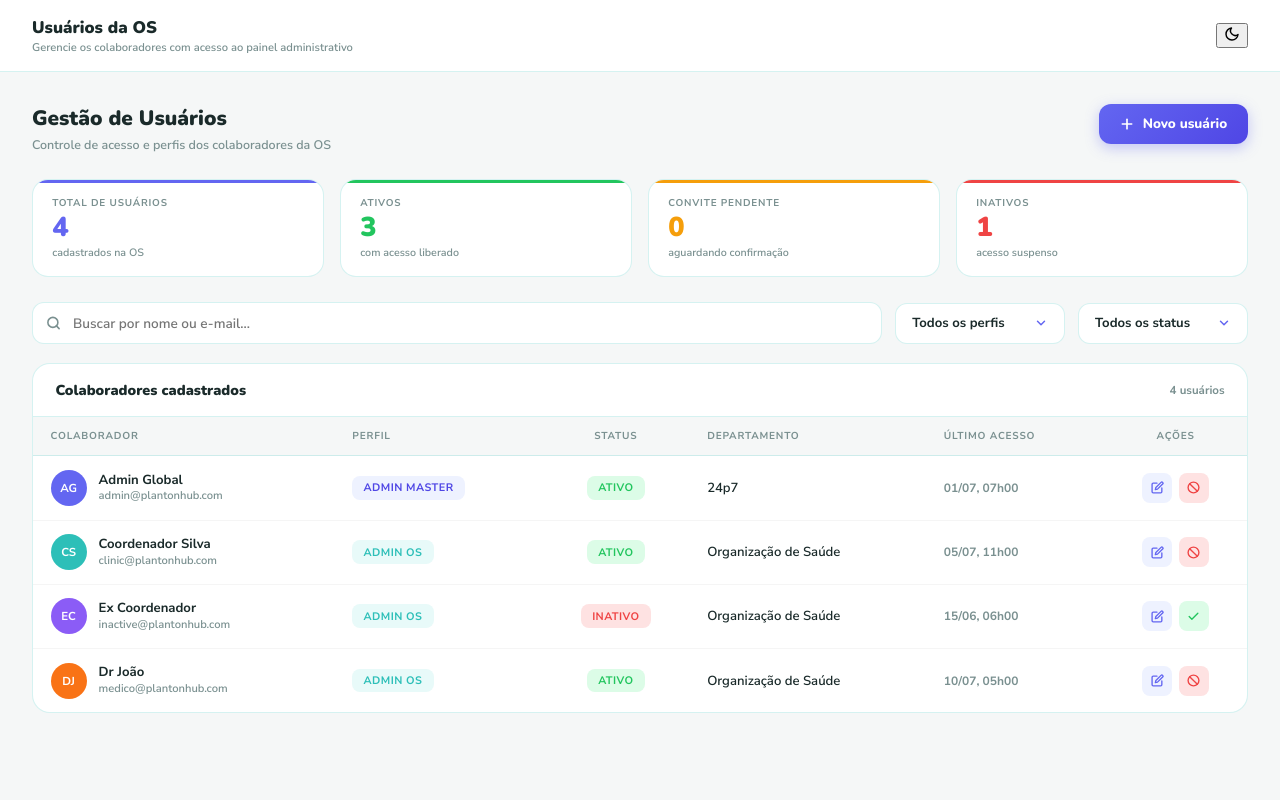
Scenario: <AdminUsuariosOS /> › cria usuário, atribui a role e insere na lista ao salvar
Expected: the text "Admin Global" is shown, [99,471,183,489]
Click the button "Novo usuário". click: (1173, 124)
box: [1099,104,1248,144]
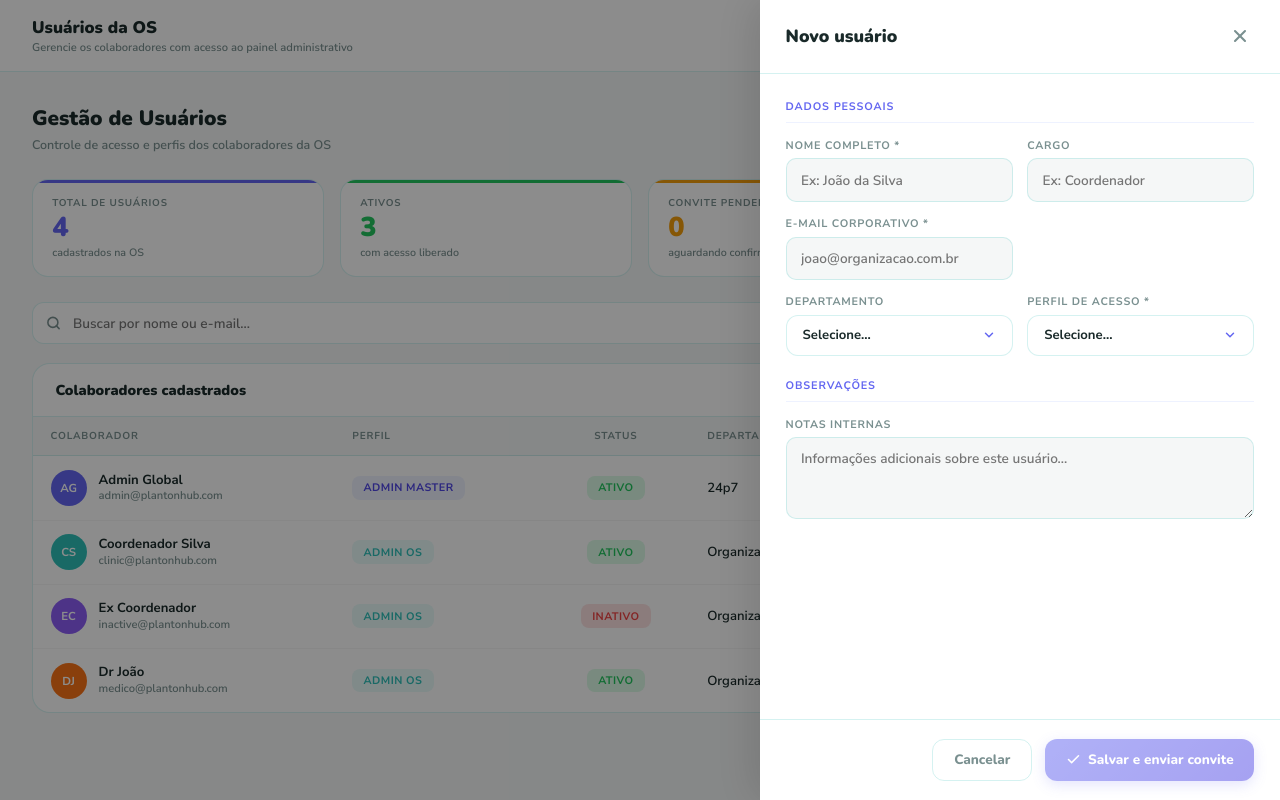
Type "Novo Colaborador" into the field with placeholder "Ex: João da Silva". click: (899, 180)
box: [786,158,1013,202]
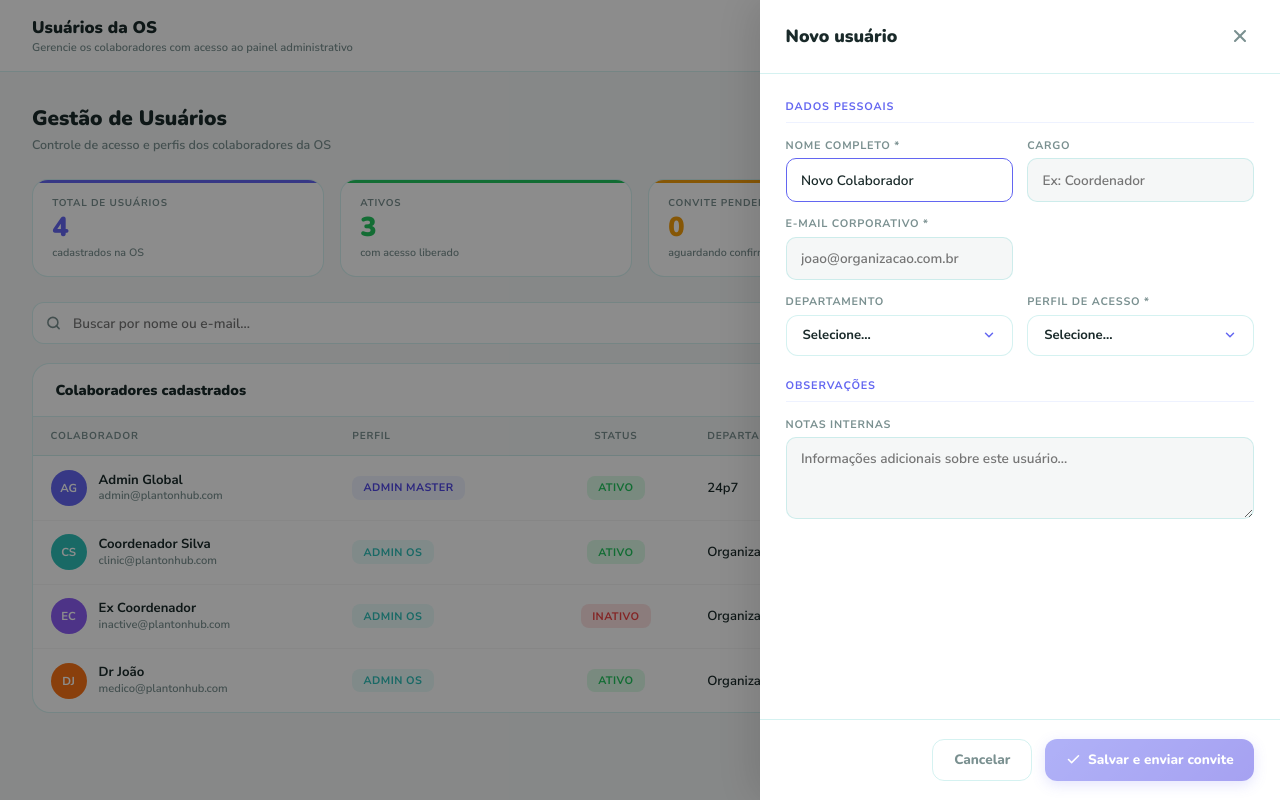
Type "novo@os.com" into the field with placeholder "joao@organizacao.com.br". click: (899, 258)
box: [786,237,1013,280]
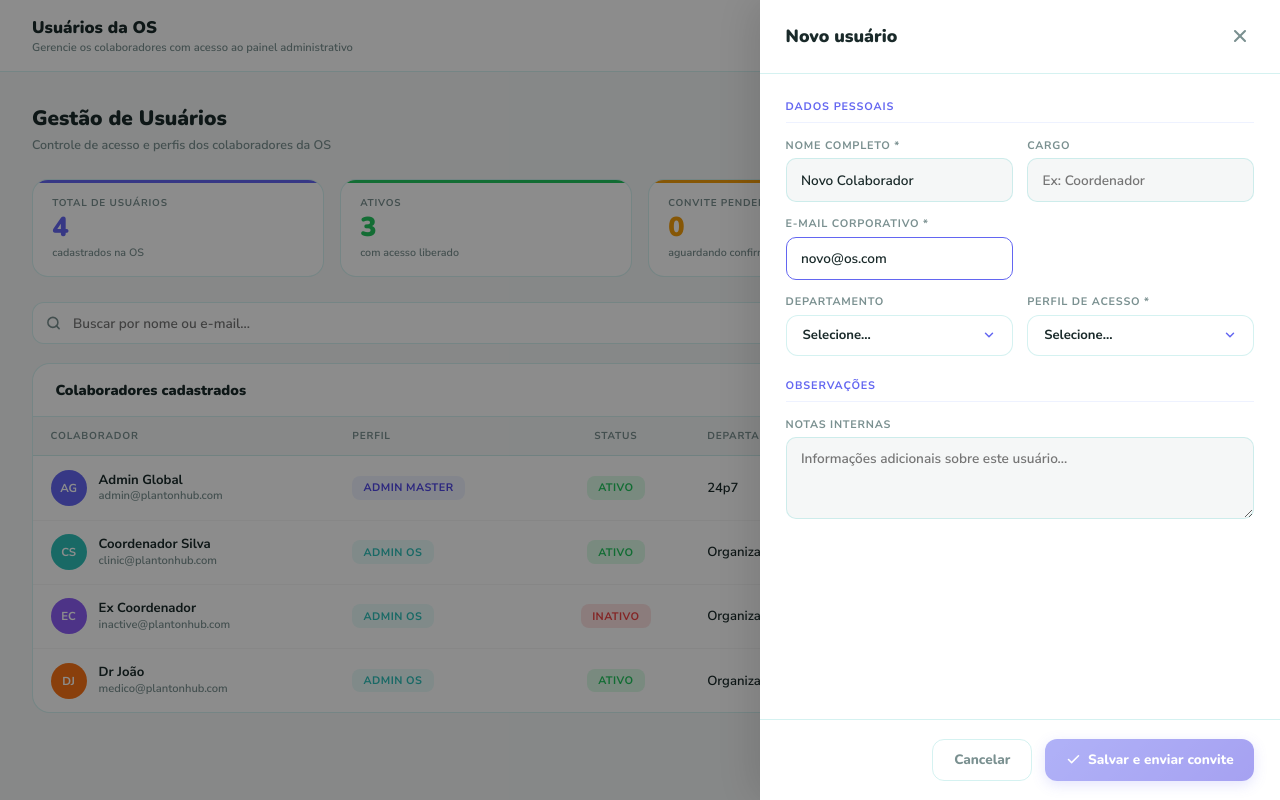
Click the button with class "uos-cselect-btn" below "Perfil de acesso *". click: (1141, 336)
box: [1027,315,1254,356]
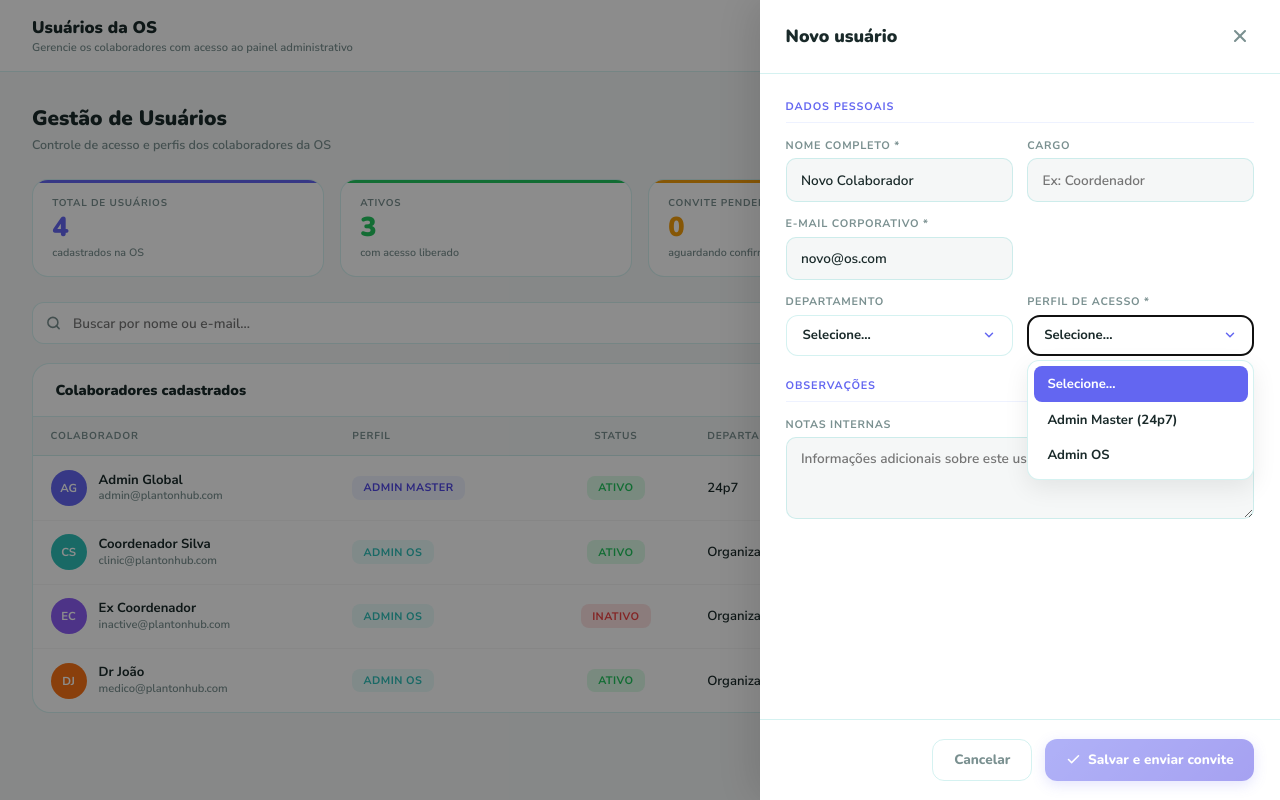
Click the text "Admin OS". click: (1078, 455)
box: [1047,446,1110,464]
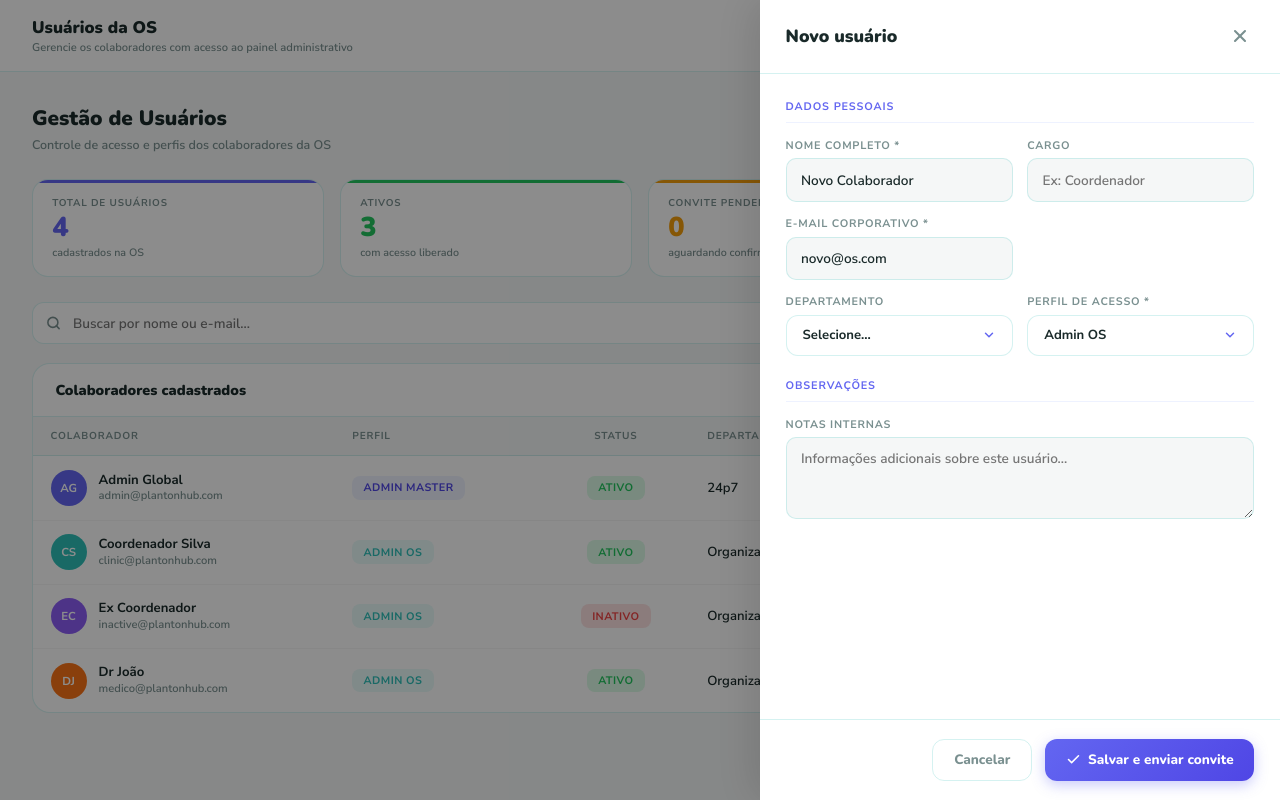
Click the button "Salvar e enviar convite". click: (1150, 760)
box: [1045,739,1254,781]
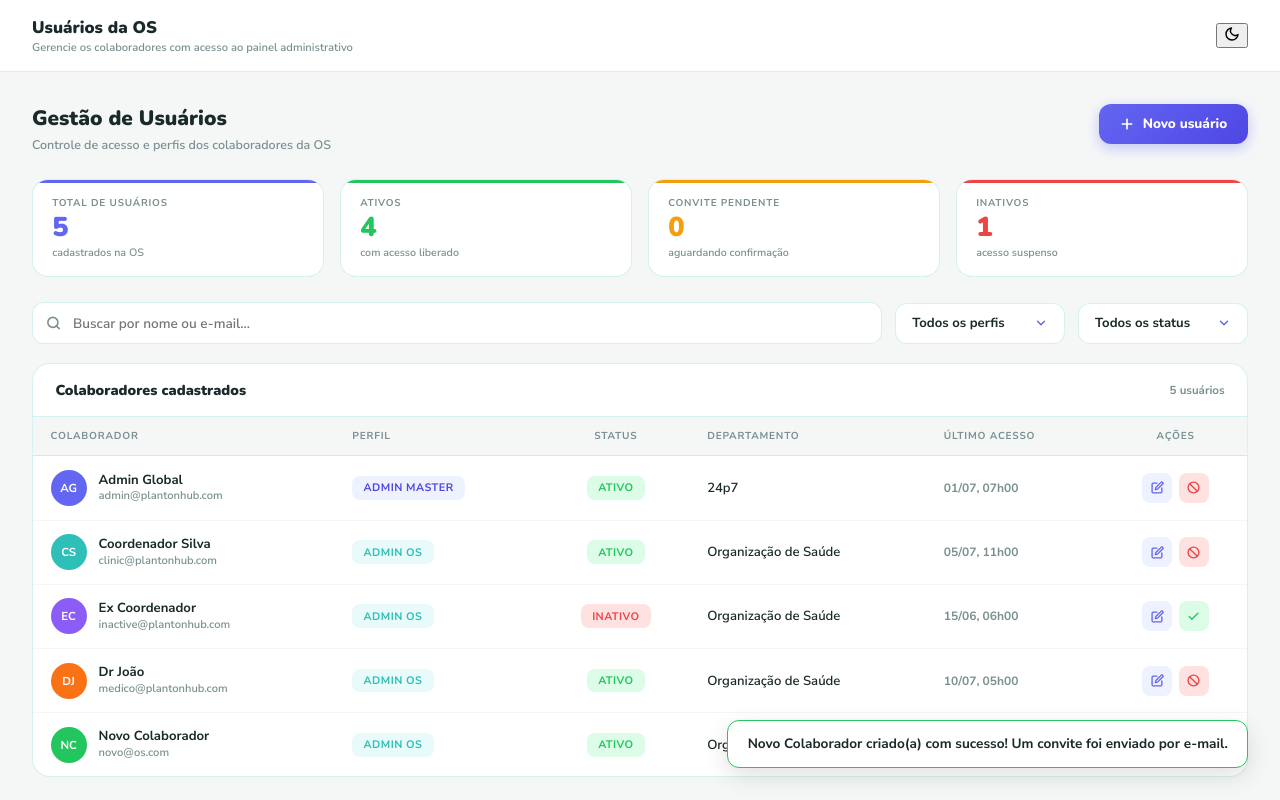
Now the text "Novo Colaborador" is shown, box [99,729,209,745]
